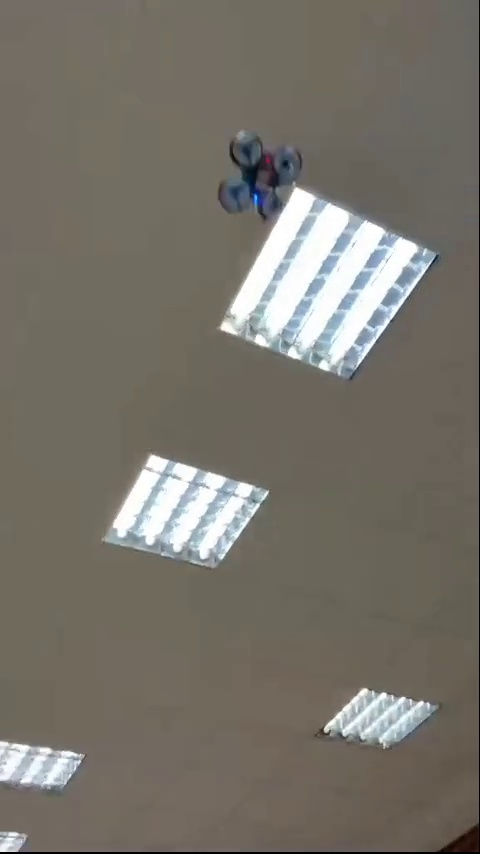drone: (222, 132, 299, 224)
